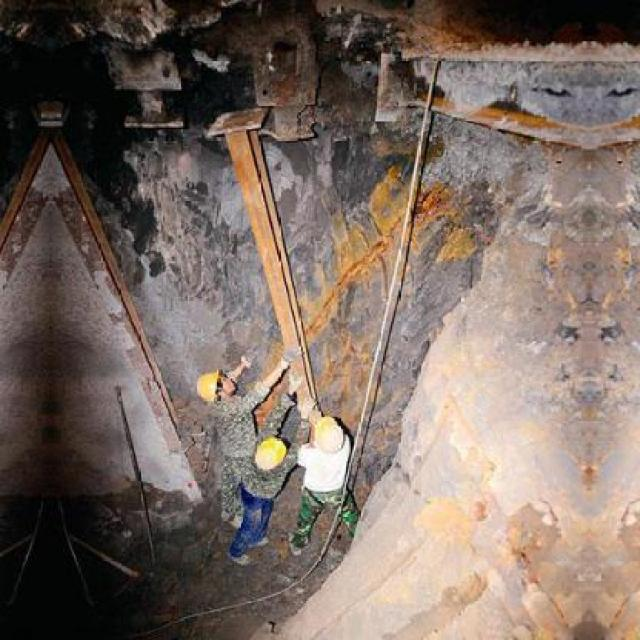helmet: (247, 435, 285, 479), (304, 413, 342, 452), (190, 371, 236, 402)
